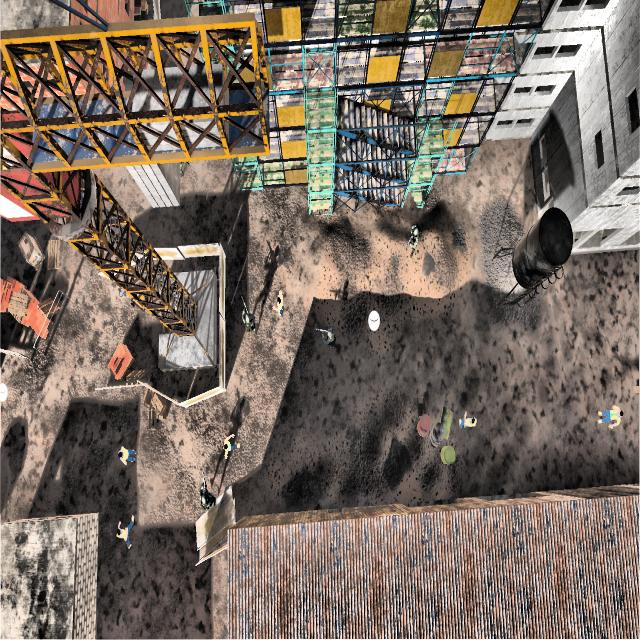bad: (195, 472, 224, 512), (316, 316, 342, 357), (237, 298, 262, 336), (402, 219, 424, 257)
good: (591, 402, 625, 436), (452, 403, 481, 437), (267, 282, 289, 326), (112, 516, 138, 553), (220, 429, 244, 462), (116, 441, 141, 469)
